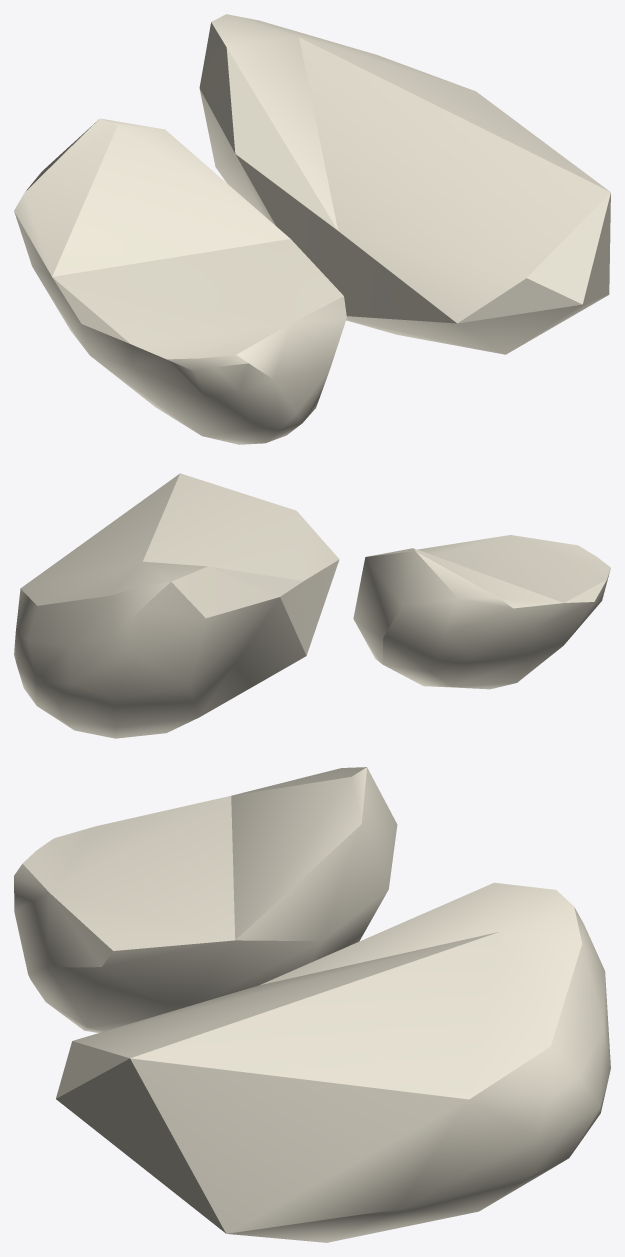
File: fma45098_cx81.glb
3 views of the same model, one above another, from view 1: azimuth 30°, elevation 25°; view 2: azimuth 150°, elevation 25°; view 3: azimuth 270°, elevation 25° (orthographic). The views are drawn at different scales.
Visible parts, largest first — view 1: FMA45098_CX81; view 2: FMA45098_CX81; view 3: FMA45098_CX81.
Boxes of the visible parts, x1,y1,x2,y2 form: FMA45098_CX81: (14, 14, 610, 444); FMA45098_CX81: (14, 473, 610, 738); FMA45098_CX81: (14, 767, 610, 1242).
Size of the model in its own units: 0.0157 by 0.0075 by 0.014.
